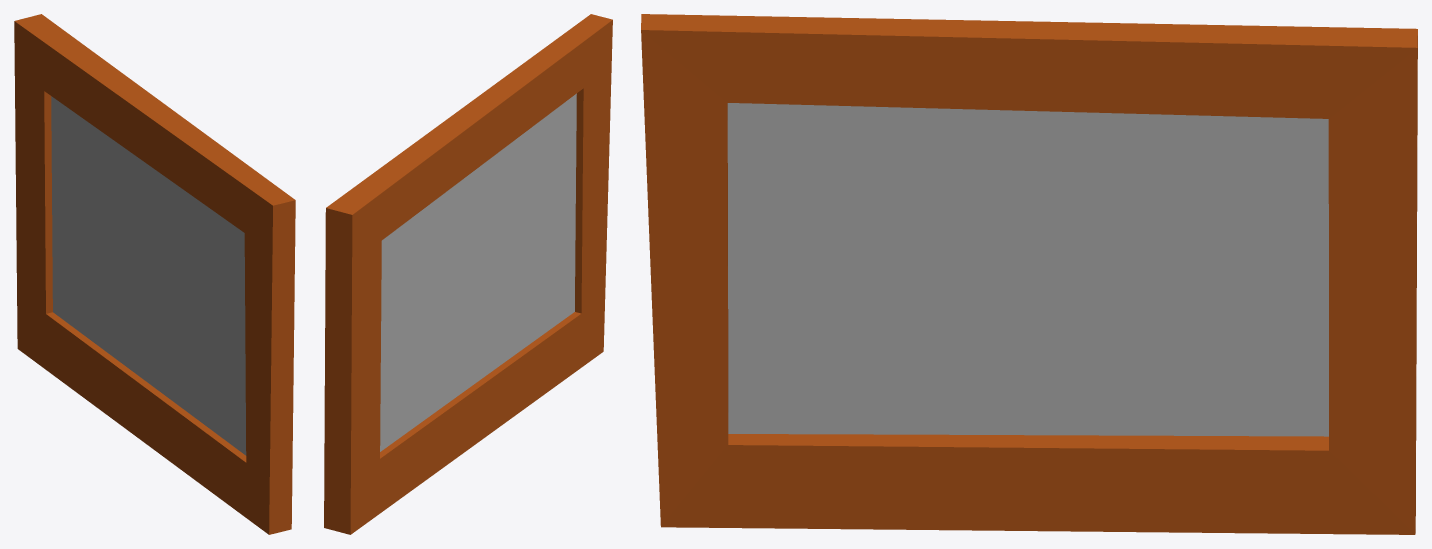
The model's file is Picture_06.glb.
3 renders of one model, left to right at view 1: azimuth 30°, elevation 25°; view 2: azimuth 150°, elevation 25°; view 3: azimuth 270°, elevation 25°, orthographic. The views are drawn at different scales.
Parts seen in each view (by area): view 1: Picture6; view 2: Picture6; view 3: Picture6.
Boxes of the visible parts, x1,y1,x2,y2 form: Picture6: (14,14,295,534); Picture6: (324,14,612,534); Picture6: (641,14,1417,534).
Bounding box in the file's own units: 0.0317 × 0.3042 × 0.4303.
